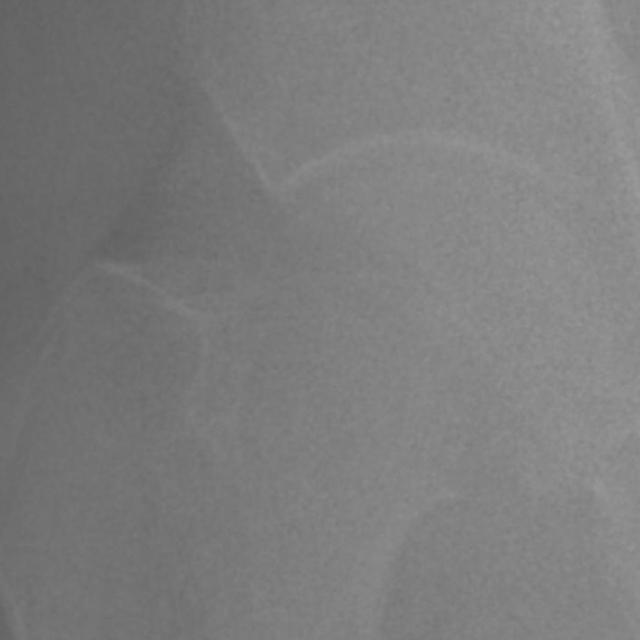Fitted_femural_head: (356, 169, 432, 356)
